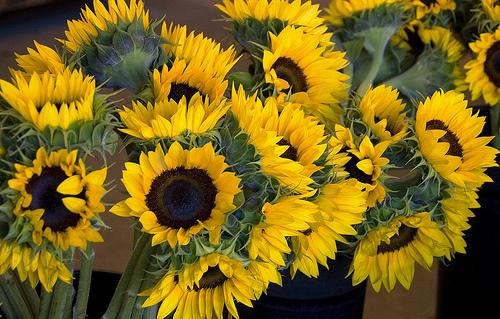sunflower: (120, 144, 243, 255), (230, 81, 321, 194), (13, 148, 106, 252), (416, 85, 500, 190), (136, 255, 268, 319), (350, 218, 455, 292), (270, 27, 350, 103), (0, 69, 100, 125), (112, 97, 229, 136), (329, 132, 388, 196), (150, 61, 228, 108), (358, 82, 414, 141), (466, 25, 500, 107)
